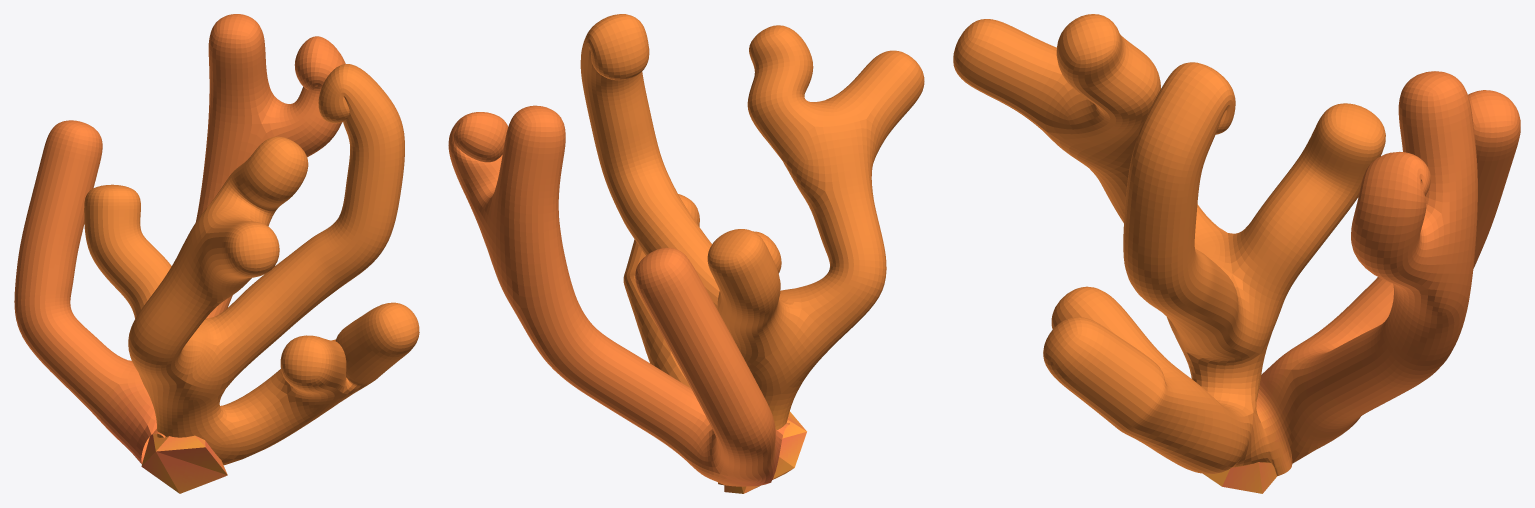
File: coral_reef.obj
3 renders of one model, left to right at view 1: azimuth 30°, elevation 25°; view 2: azimuth 150°, elevation 25°; view 3: azimuth 270°, elevation 25°, orthographic. The views are drawn at different scales.
Parts seen in each view (by area): view 1: Cube_Cube.001, Sphere_Sphere.001; view 2: Cube_Cube.001, Sphere_Sphere.001; view 3: Cube_Cube.001, Sphere_Sphere.001.
Part boxes in pixels (left/top/right/bottom): Cube_Cube.001: left=14, top=14, right=419, bottom=465; Sphere_Sphere.001: left=141, top=433, right=227, bottom=493; Cube_Cube.001: left=448, top=14, right=924, bottom=486; Sphere_Sphere.001: left=724, top=411, right=806, bottom=493; Cube_Cube.001: left=953, top=14, right=1520, bottom=475; Sphere_Sphere.001: left=1203, top=462, right=1277, bottom=493.
Size of the model in its own units: 0.442 by 0.5421 by 0.5515.
